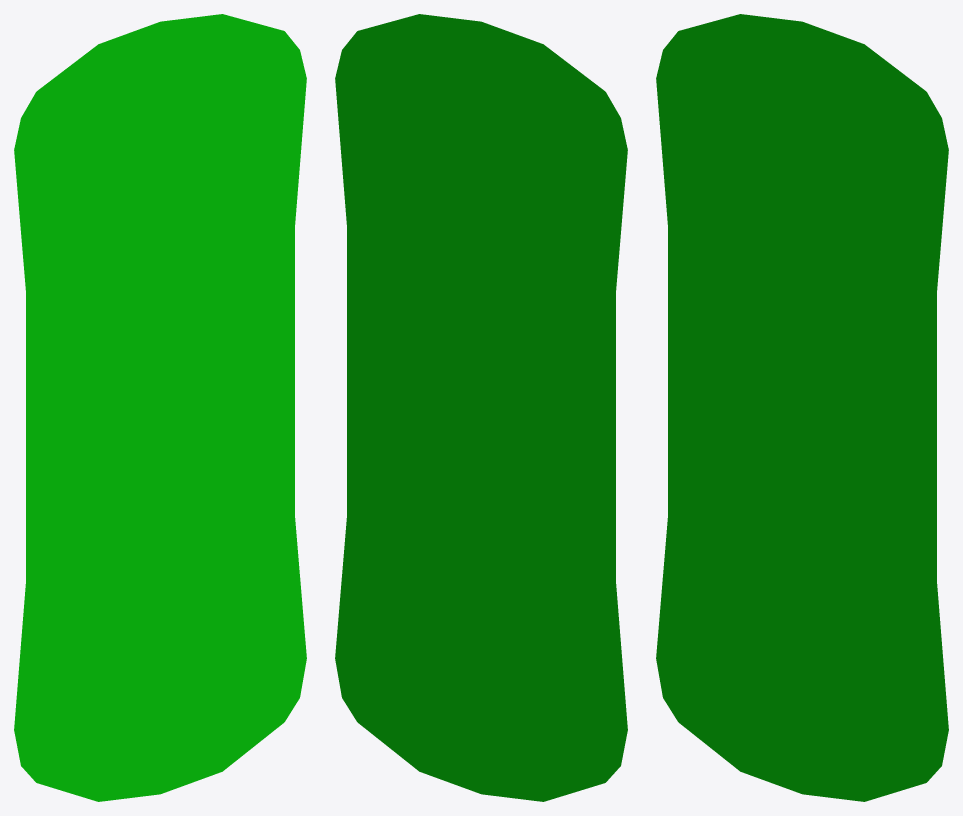
3 views of the same model, side by side, from view 1: azimuth 30°, elevation 25°; view 2: azimuth 150°, elevation 25°; view 3: azimuth 330°, elevation 25° (orthographic).
Visible parts, largest first — view 1: Shield_Sq_03; view 2: Shield_Sq_03; view 3: Shield_Sq_03.
Boxes of the visible parts, x1,y1,x2,y2 form: Shield_Sq_03: [14, 14, 306, 801]; Shield_Sq_03: [335, 14, 627, 801]; Shield_Sq_03: [656, 14, 948, 801].
Size of the model in its own units: 1.14 by 2.17e-07 by 2.87.
